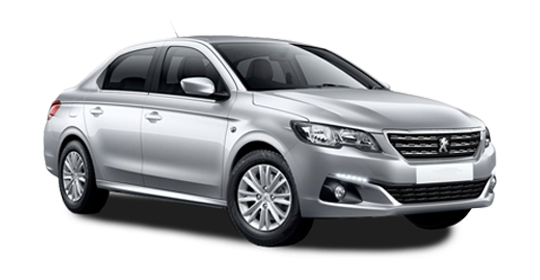car: (41, 27, 501, 251)
